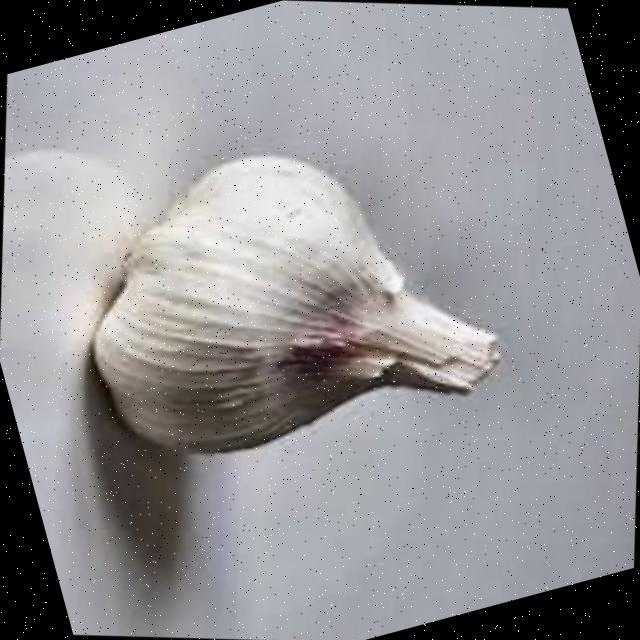garlic: (93, 154, 500, 452)
